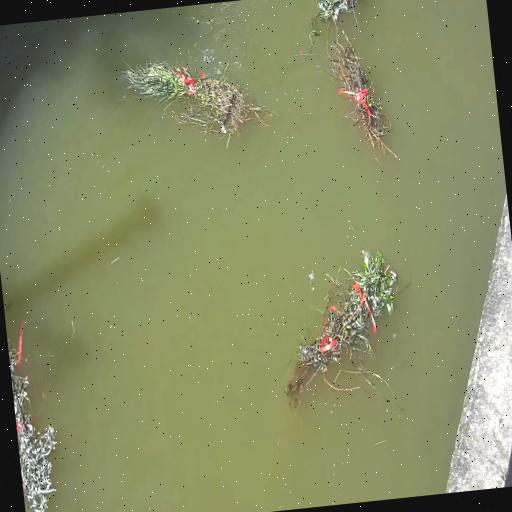twig: (266, 244, 409, 418), (120, 44, 272, 154), (6, 319, 67, 512), (326, 24, 398, 168), (302, 0, 375, 53)
